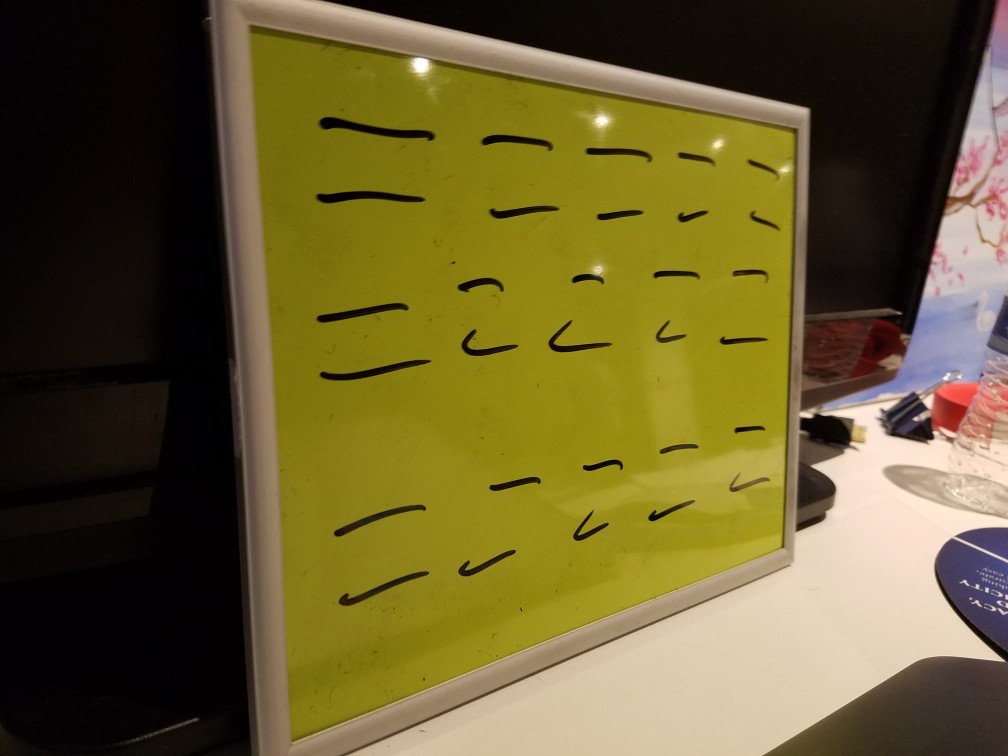=: (298, 85, 441, 233), (315, 491, 444, 612), (301, 276, 430, 391), (457, 459, 547, 593), (469, 112, 563, 234), (539, 257, 629, 365), (438, 266, 527, 370), (577, 124, 658, 230), (641, 421, 709, 540), (563, 439, 629, 553), (641, 258, 711, 351), (715, 256, 777, 357), (659, 138, 723, 233), (715, 404, 774, 506), (729, 145, 789, 238)
